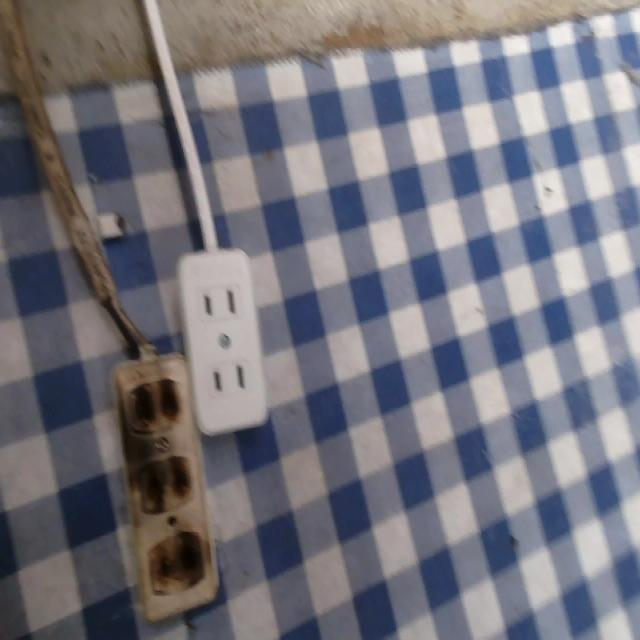-: (130, 452, 199, 512), (145, 525, 203, 592), (128, 369, 183, 434)
